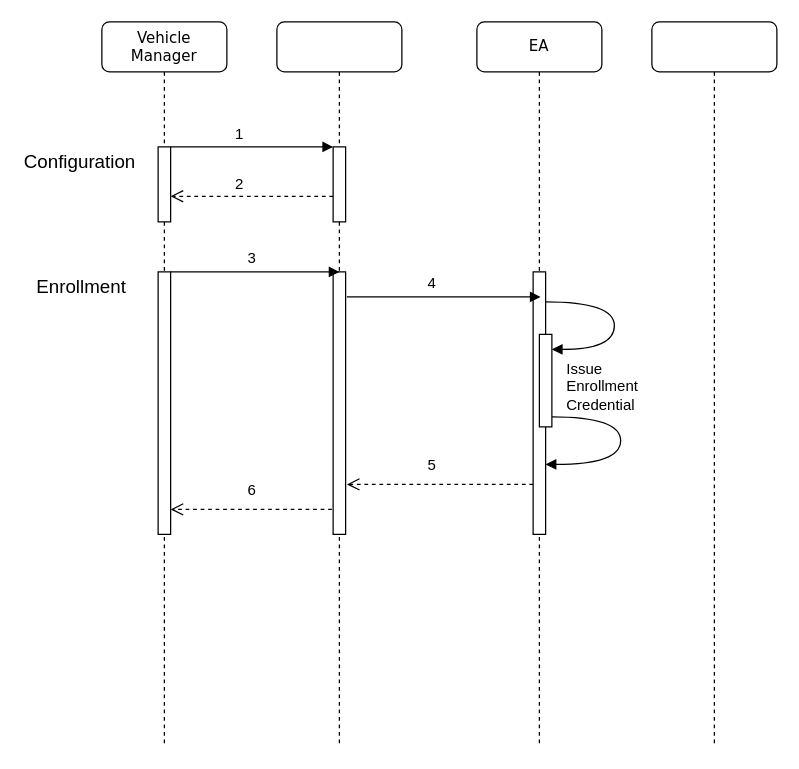
Some shapes in this 799 by 769 pixel diagram are drawn without their labels. The box of each missing label's shape, as (x1, y1, x2, y2) in pixels:
AA: (651, 21, 777, 747)
RA: (276, 21, 402, 747)
